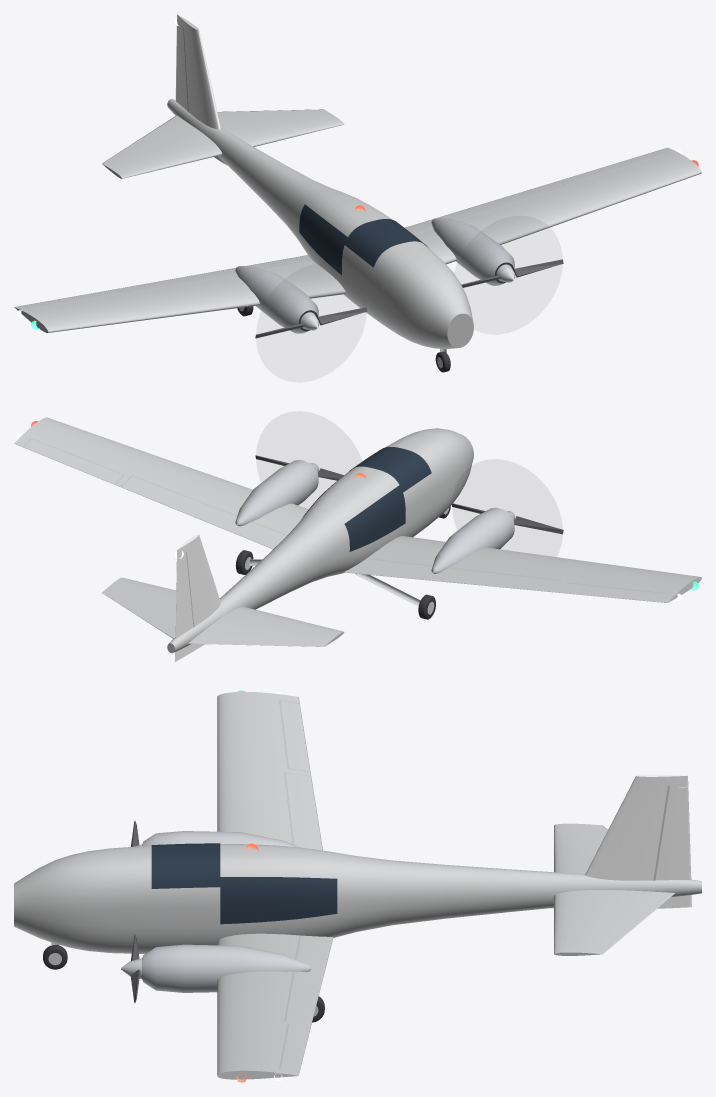
3 views of the same model, one above another, from view 1: azimuth 30°, elevation 25°; view 2: azimuth 150°, elevation 25°; view 3: azimuth 270°, elevation 25° (orthographic). The views are drawn at different scales.
Visible parts, largest first — view 1: airframe, prop; view 2: airframe, gear, prop; view 3: airframe, gear.
Part boxes in pixels (<box>): airframe: <box>14,14,701,349</box>; prop: <box>255,307,367,338</box>; airframe: <box>14,417,701,661</box>; gear: <box>235,506,450,619</box>; prop: <box>451,503,563,534</box>; airframe: <box>14,690,701,1082</box>; gear: <box>43,942,324,1022</box>.
Size of the model in its own units: 11.82 by 2.93 by 8.9.
